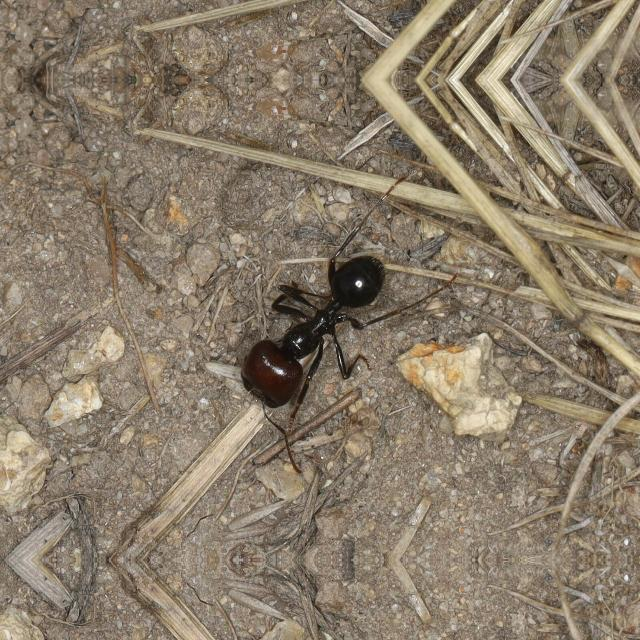Messor: (239, 253, 375, 423)
